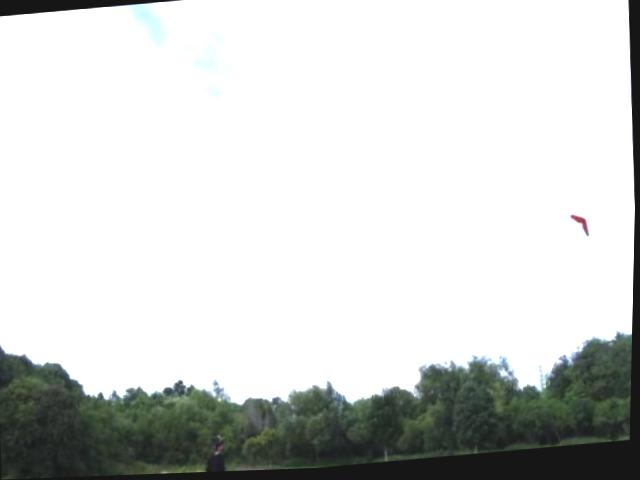flying wing: (571, 214, 592, 242)
